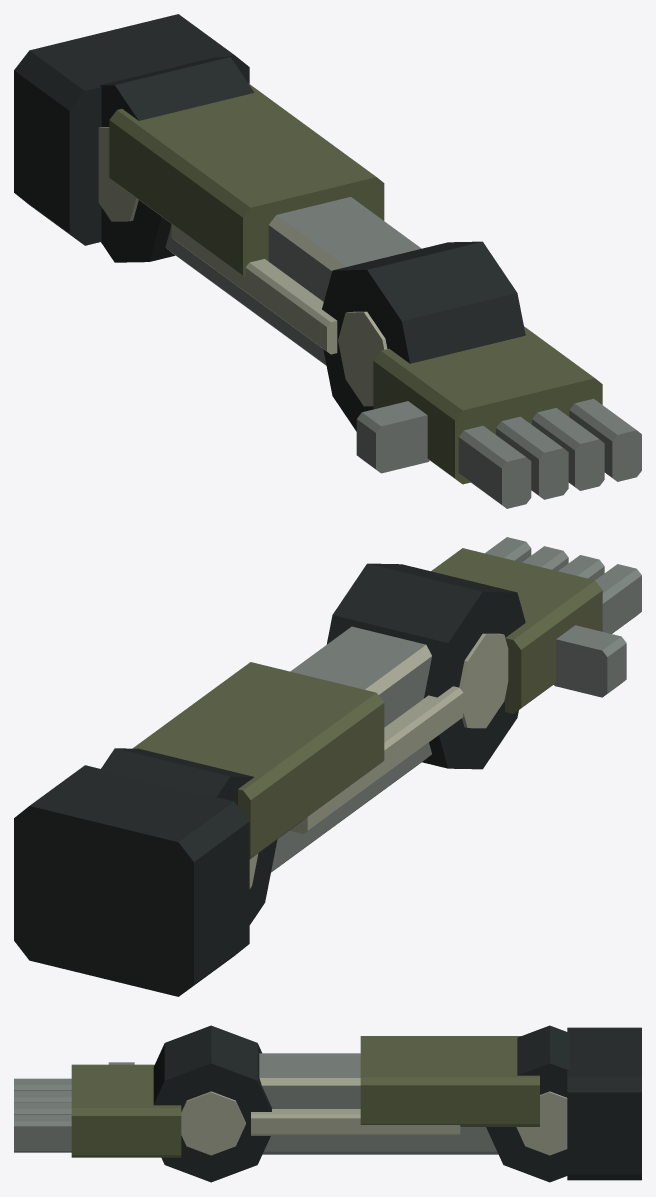
Rendered from ProstheticArm.gltf.
3 renders of one model, top to bottom at view 1: azimuth 30°, elevation 25°; view 2: azimuth 150°, elevation 25°; view 3: azimuth 270°, elevation 25°, orthographic. The views are drawn at different scales.
Parts seen in each view (by area): view 1: ProstheticArm; view 2: ProstheticArm; view 3: ProstheticArm.
Boxes of the visible parts, x1,y1,x2,y2 form: ProstheticArm: (14,14,641,508); ProstheticArm: (14,537,641,996); ProstheticArm: (14,1025,641,1182).
Bounding box in the file's own units: 0.1675 × 0.132 × 0.6305.
